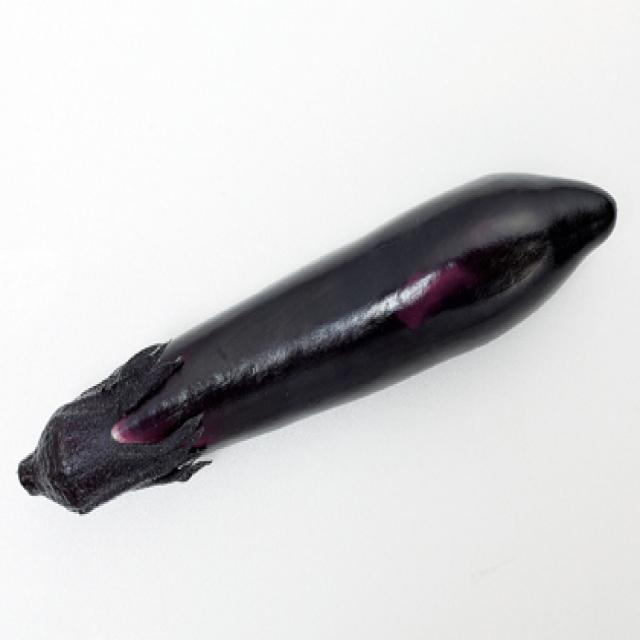eggplant: (0, 121, 640, 542)
